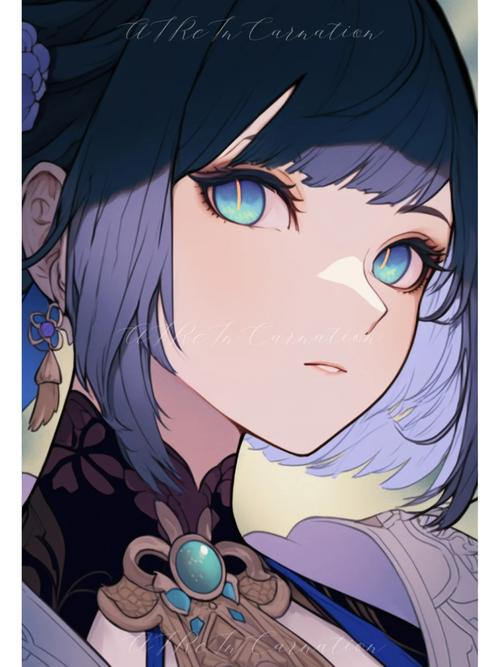夜兰: (21, 1, 478, 663)
